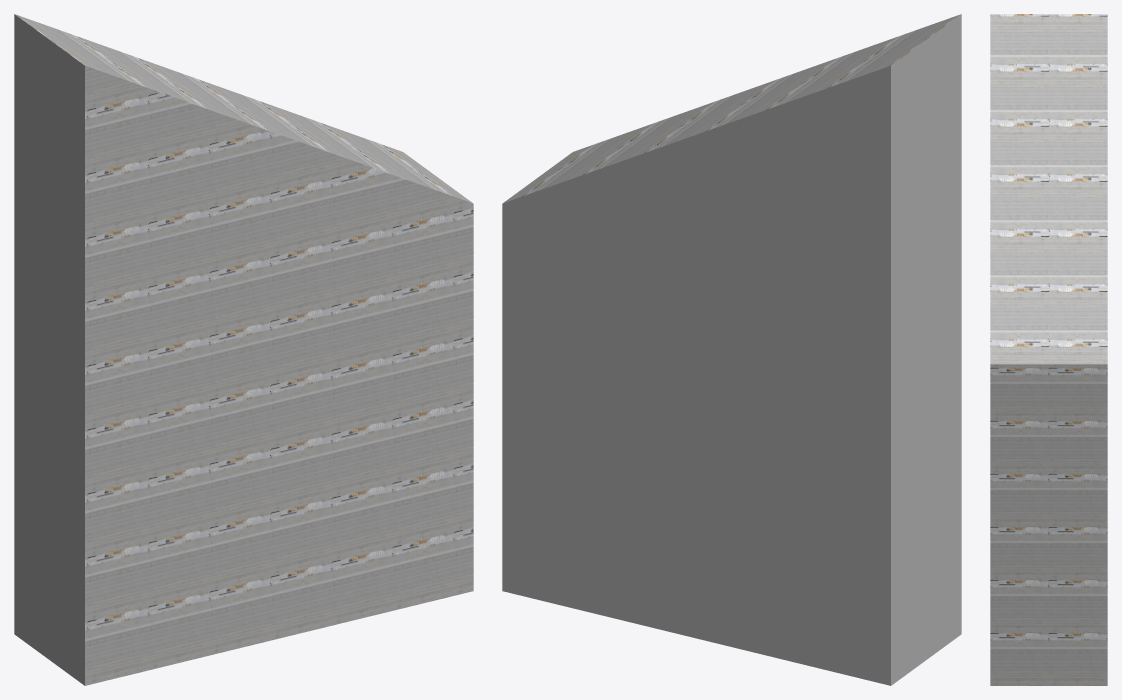
File: Brush_0_AsStaticMesh.fbx
The picture shows the model from 3 angles, left to right: view 1: azimuth 30°, elevation 25°; view 2: azimuth 150°, elevation 25°; view 3: azimuth 270°, elevation 25°; orthographic projection. The views are drawn at different scales.
Parts seen in each view (by area): view 1: Brush_0_AsStaticMesh_LOD0; view 2: Brush_0_AsStaticMesh_LOD0; view 3: Brush_0_AsStaticMesh_LOD0.
Boxes of the visible parts, bbox=[...] form: Brush_0_AsStaticMesh_LOD0: bbox=[14, 14, 473, 685]; Brush_0_AsStaticMesh_LOD0: bbox=[502, 14, 961, 685]; Brush_0_AsStaticMesh_LOD0: bbox=[990, 14, 1107, 685].
Bounding box in the file's own units: 636 × 200 × 970.
